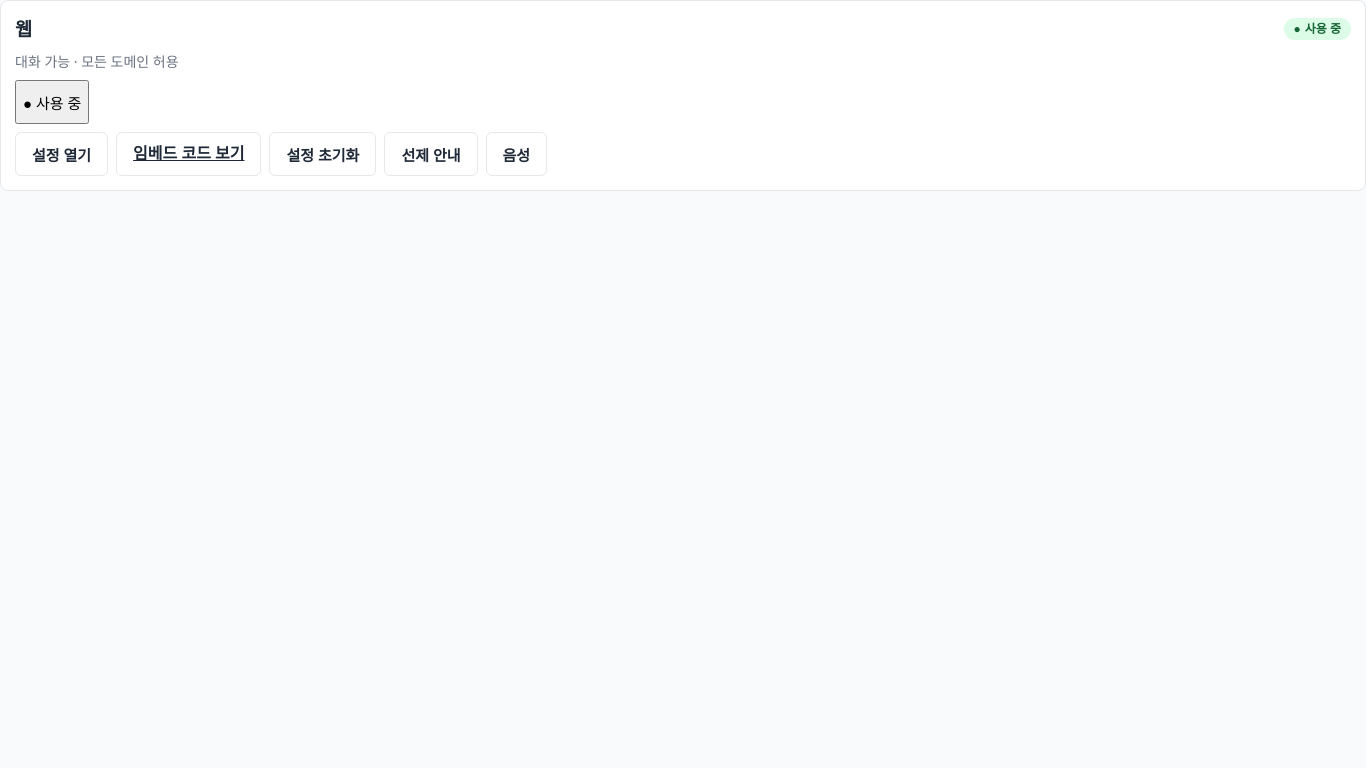
Test: ChannelCard — 음성 진입점(No.32) › "설정 열기"·"선제 안내"와 독립적으로 동시에 펼칠 수 있다
Click the button "설정 열기" at (62, 154), box x1=15 y1=132 x2=108 y2=176
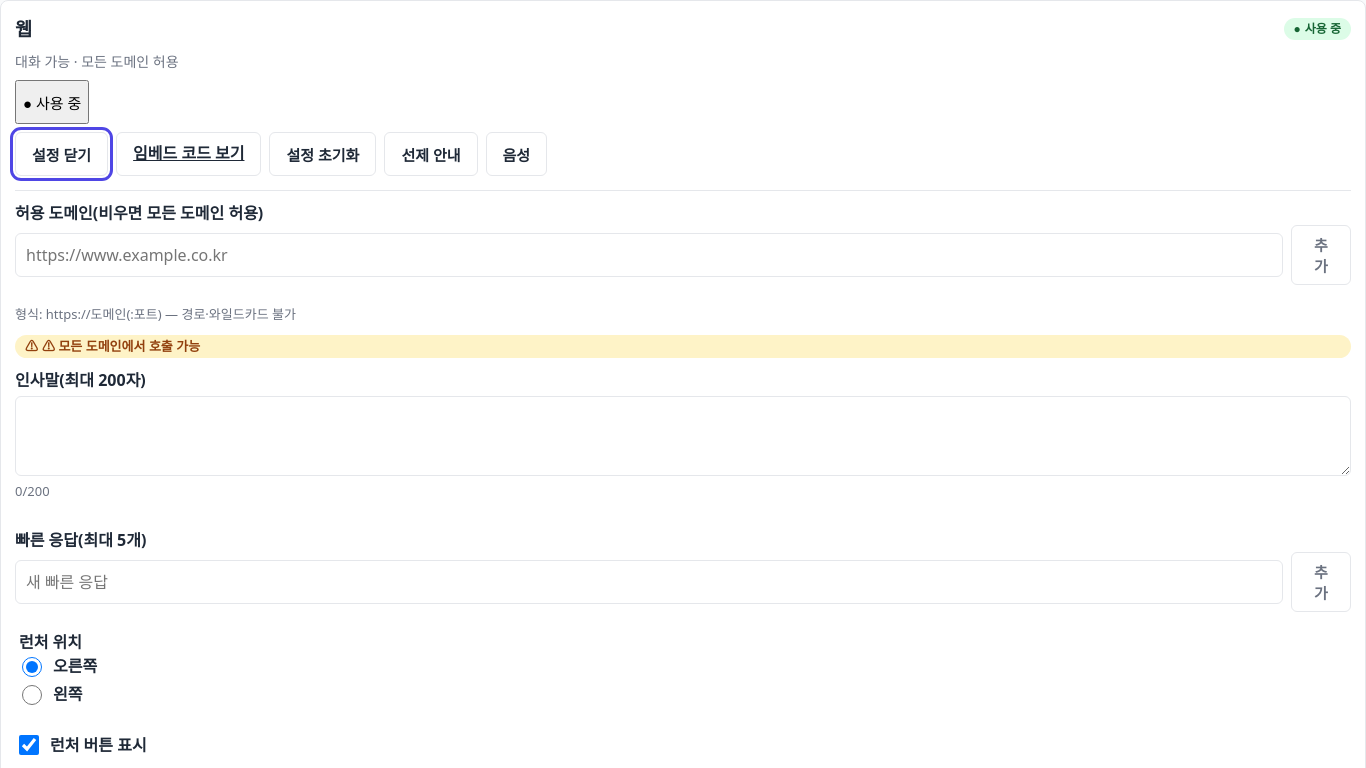
Click the button "선제 안내" at (431, 154), box x1=384 y1=132 x2=478 y2=176
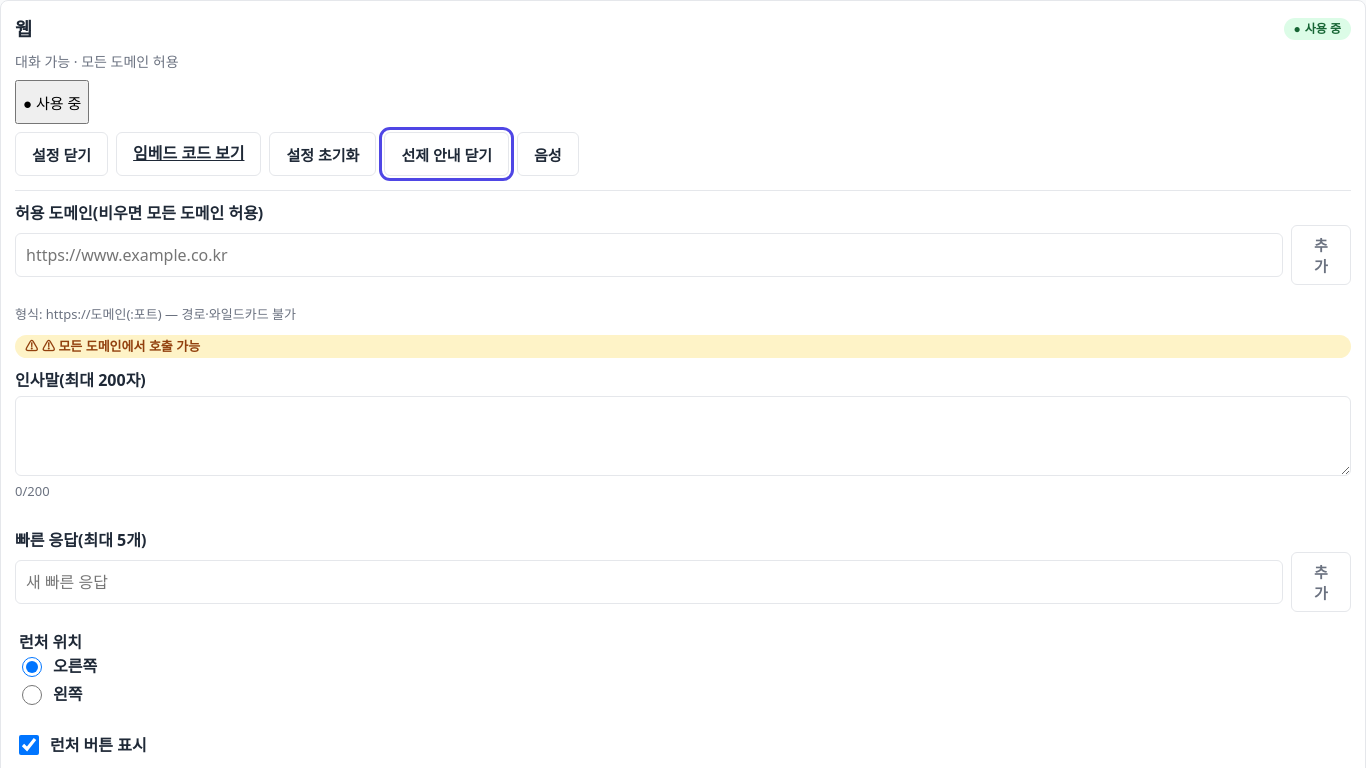
Click the button "음성" at (548, 154), box x1=517 y1=132 x2=579 y2=176
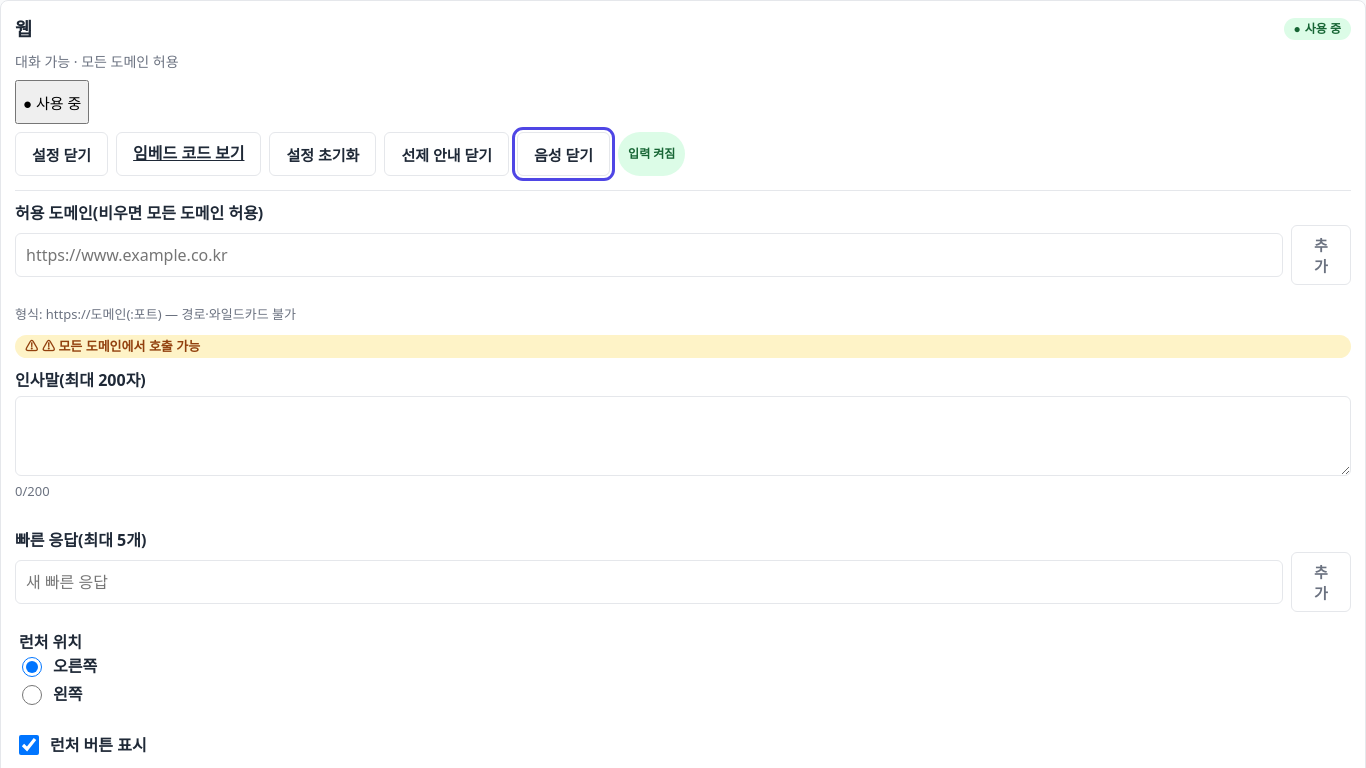
Expected: the button "설정 닫기" is expanded, x1=15 y1=132 x2=108 y2=176
Expected: the button "선제 안내 닫기" is expanded, x1=384 y1=132 x2=509 y2=176
Expected: the button "음성 닫기" is expanded, x1=517 y1=132 x2=610 y2=176
